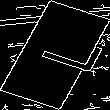L_NW: (17, 31, 93, 79)
